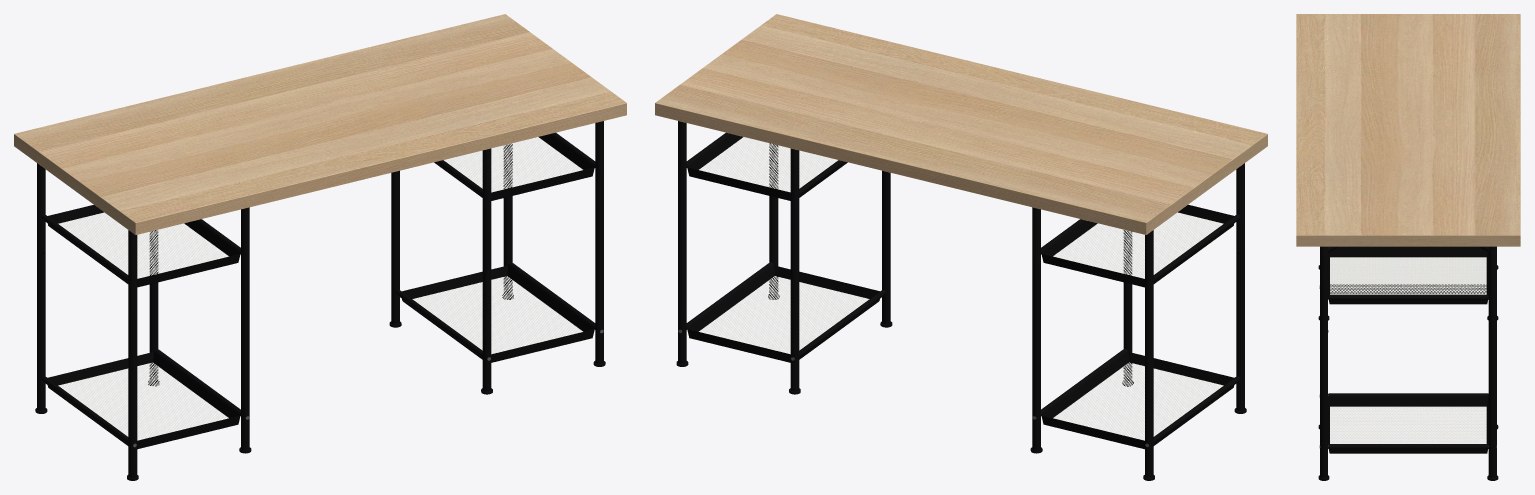
3 renders of one model, left to right at view 1: azimuth 30°, elevation 25°; view 2: azimuth 150°, elevation 25°; view 3: azimuth 270°, elevation 25°, orthographic. The views are drawn at different scales.
Visible parts, largest first — view 1: 59563861_desk.012, 59563861_desk, 59563861_desk.008; view 2: 59563861_desk.012, 59563861_desk, 59563861_desk.008; view 3: 59563861_desk.012, 59563861_desk, 59563861_desk.008.
Boxes of the visible parts, box(x1,y1,x2,y2) form: 59563861_desk.012: box(14, 14, 626, 234); 59563861_desk: box(37, 121, 603, 477); 59563861_desk.008: box(58, 137, 582, 440); 59563861_desk.012: box(655, 14, 1267, 234); 59563861_desk: box(678, 121, 1244, 477); 59563861_desk.008: box(699, 137, 1223, 440); 59563861_desk.012: box(1296, 14, 1520, 246); 59563861_desk: box(1320, 246, 1496, 478); 59563861_desk.008: box(1330, 257, 1486, 443).
Size of the model in its own units: 1.4 by 0.7342 by 0.5998.
7 materials, 3 textured.
